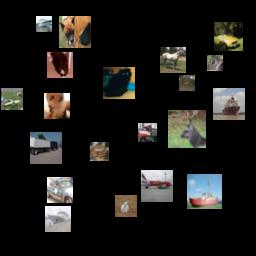airplane: (141, 170, 173, 202), (1, 88, 23, 110)
automobile: (214, 22, 243, 51), (47, 177, 73, 203)
cat: (103, 67, 135, 99), (44, 93, 70, 119), (47, 52, 73, 78), (90, 142, 109, 161)
deer: (168, 110, 206, 148), (115, 195, 137, 217), (179, 75, 195, 91)
dog: (59, 16, 91, 48)
ship: (187, 174, 222, 209), (213, 88, 245, 120), (45, 206, 71, 232), (36, 16, 52, 32)
truck: (30, 132, 62, 164), (138, 123, 157, 142)
